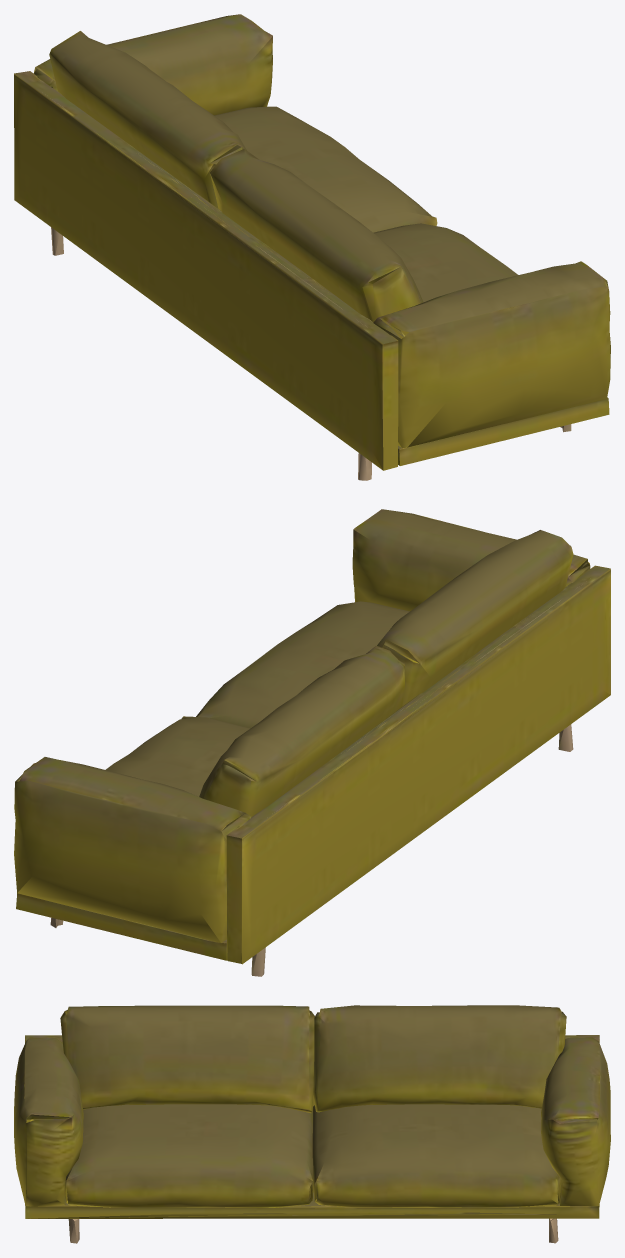
The model's file is M_Sofa0013.obj.
The picture shows the model from 3 angles, top to bottom: view 1: azimuth 30°, elevation 25°; view 2: azimuth 150°, elevation 25°; view 3: azimuth 270°, elevation 25°; orthographic projection. The views are drawn at different scales.
Size of the model in its own units: 0.985 by 0.821 by 2.66.
1 material, 1 textured.
